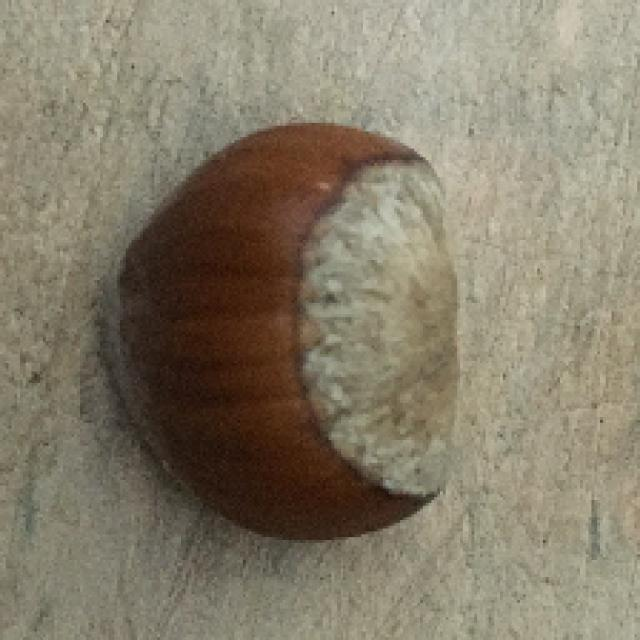qualityHazelnut: (94, 126, 465, 540)
